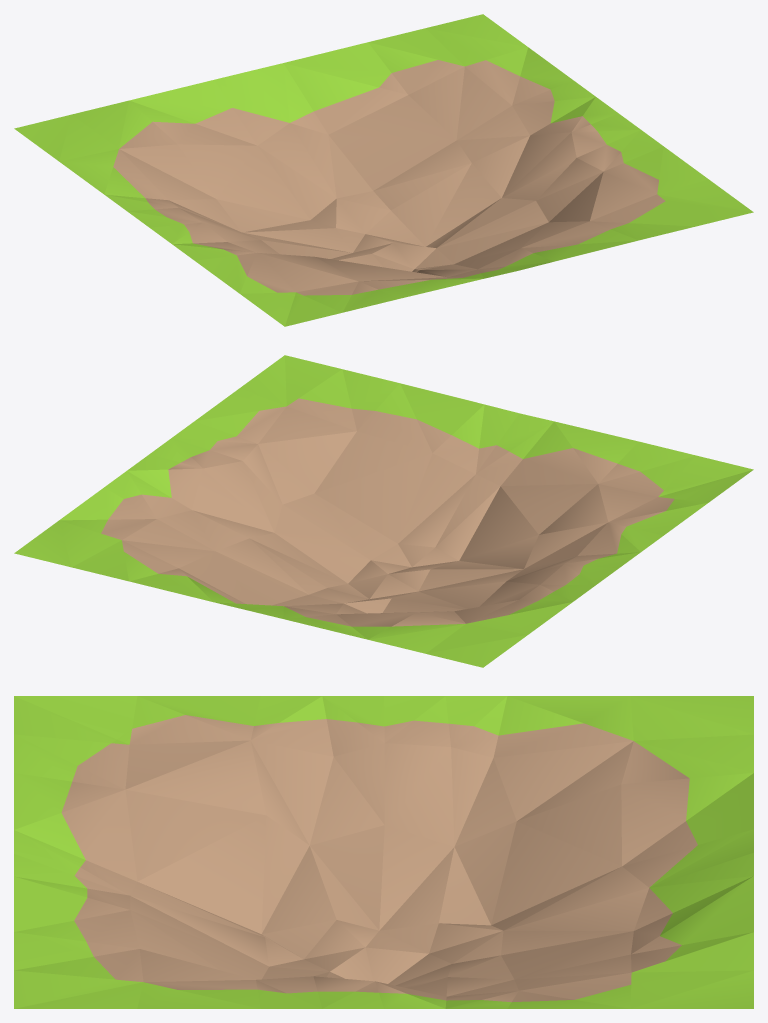
The model's file is Lago_con_arena 3.fbx.
3 views of the same model, one above another, from view 1: azimuth 30°, elevation 25°; view 2: azimuth 150°, elevation 25°; view 3: azimuth 270°, elevation 25° (orthographic). The views are drawn at different scales.
Visible parts, largest first — view 1: ground_06.001, ground_06; view 2: ground_06.001, ground_06; view 3: ground_06.001, ground_06.
Part boxes in pixels (bbox=[...]): ground_06.001: bbox=[113, 60, 665, 295]; ground_06: bbox=[14, 14, 753, 326]; ground_06.001: bbox=[101, 398, 674, 626]; ground_06: bbox=[14, 355, 753, 667]; ground_06.001: bbox=[61, 715, 697, 1002]; ground_06: bbox=[14, 696, 753, 1008].
Size of the model in its own units: 1600 by 273 by 1600.
